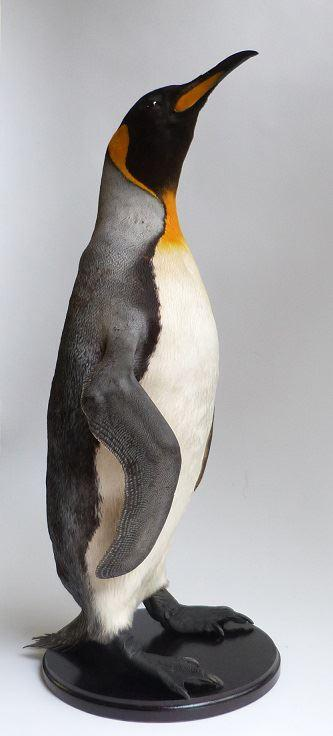king: (22, 28, 285, 725)
